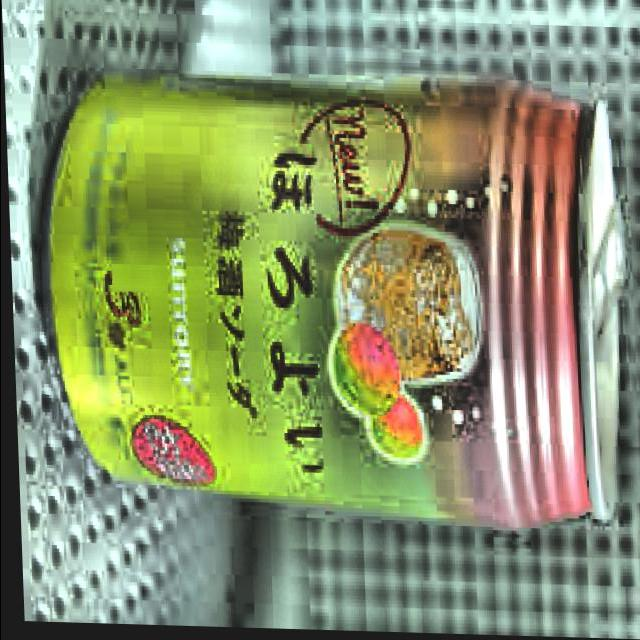Aluminum Can: (15, 64, 640, 549)
